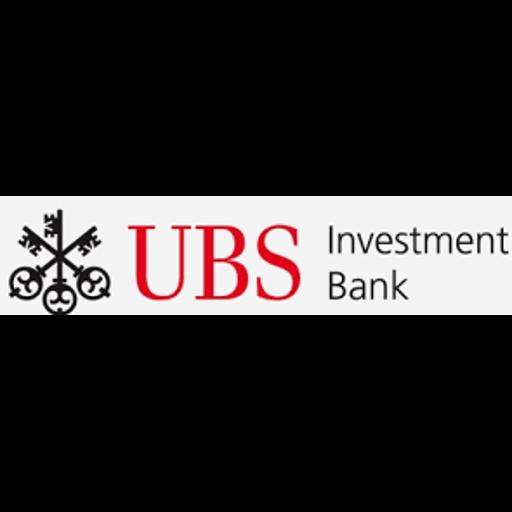UBS AG: (0, 196, 512, 315)
